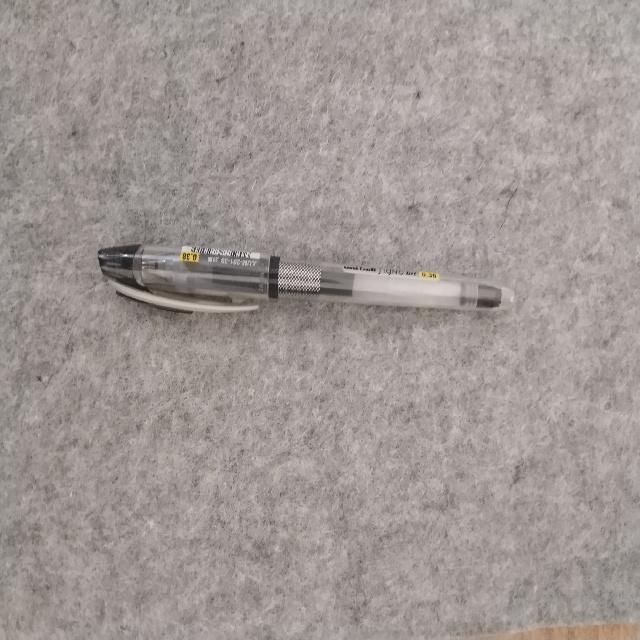pen: (98, 244, 514, 311)
